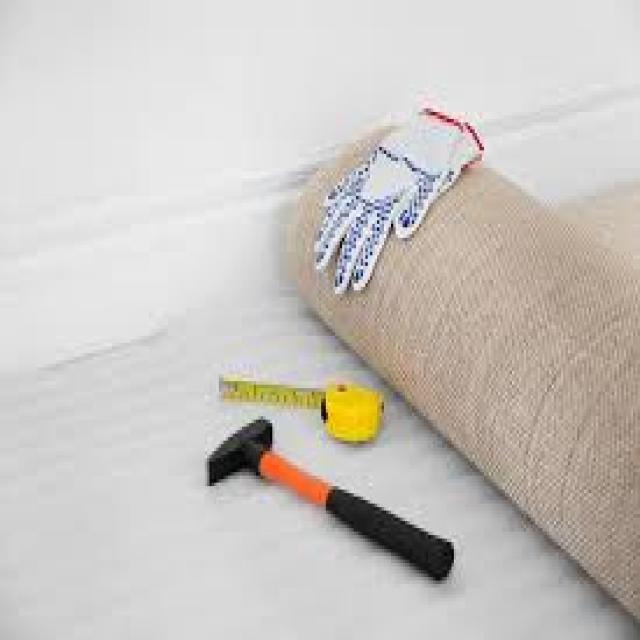hammer: (190, 392, 505, 621)
